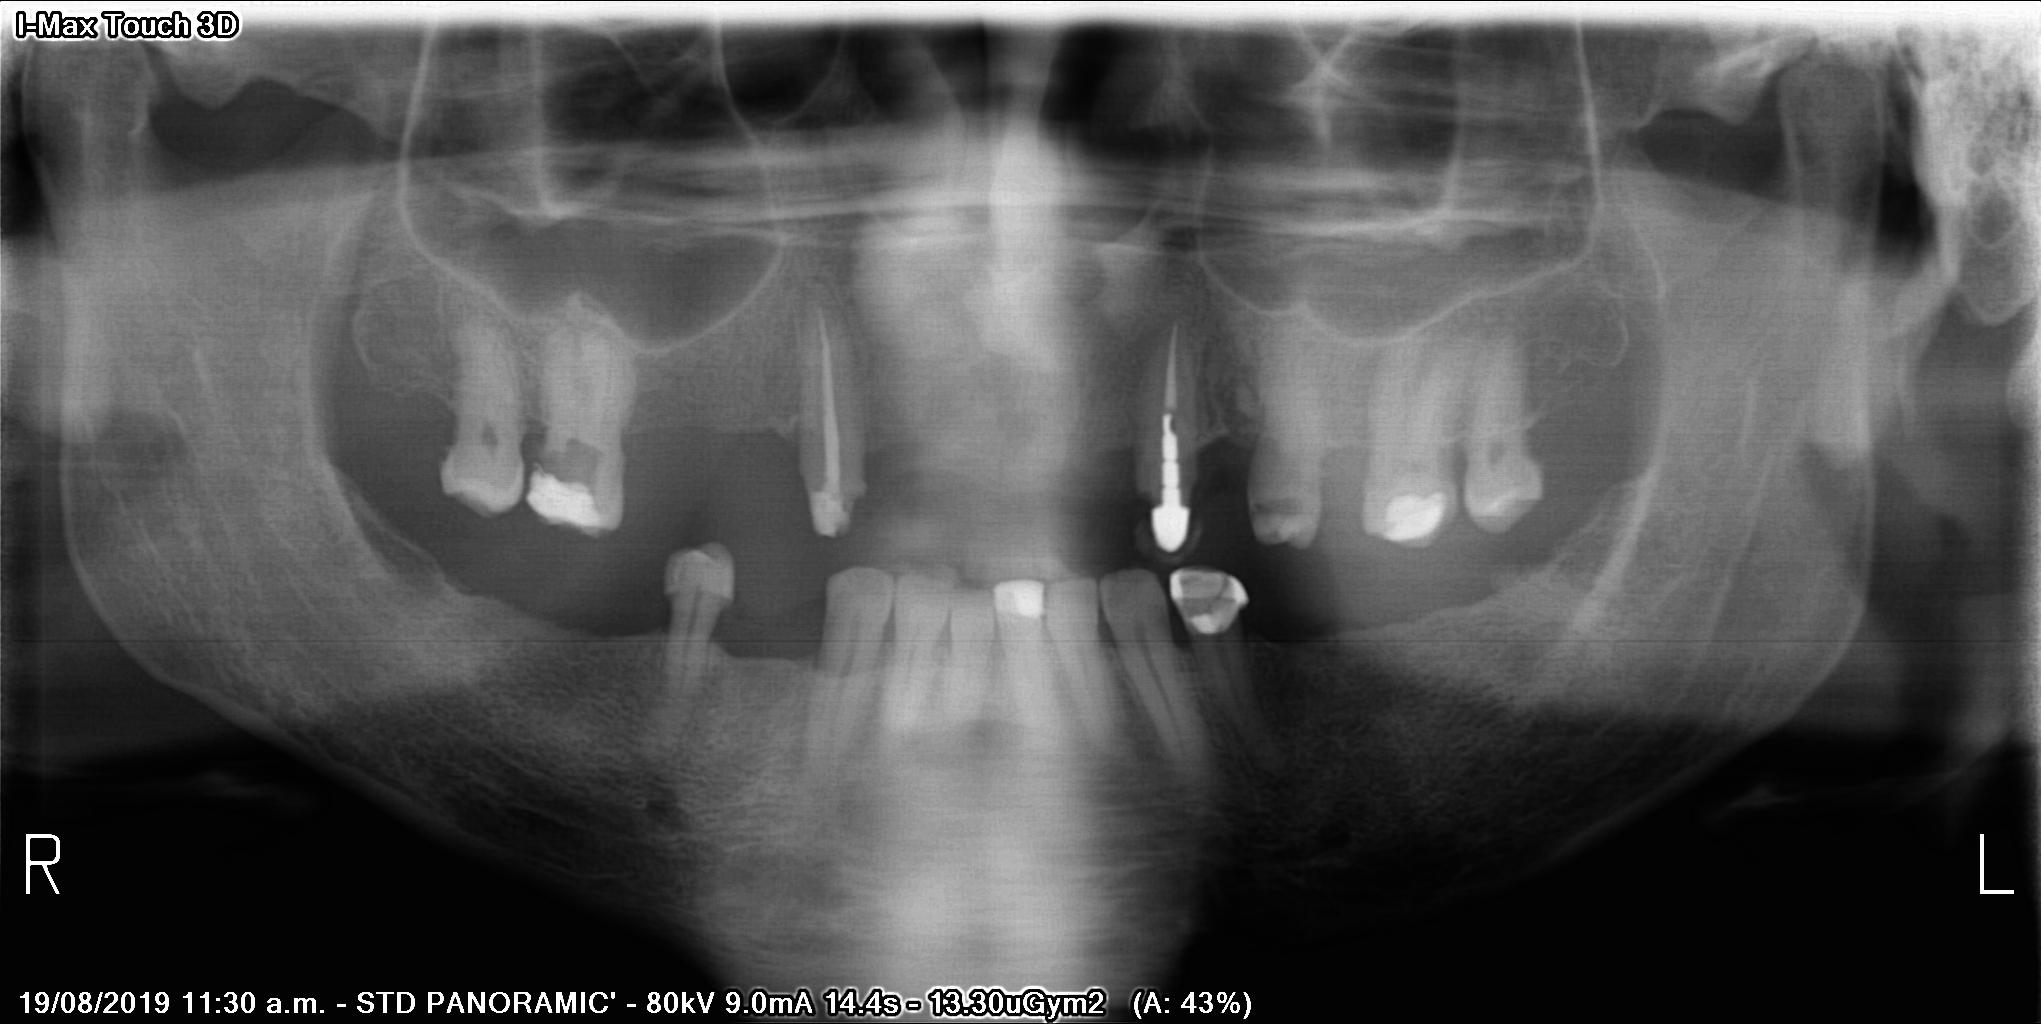Çürük: (1147, 393, 1197, 556), (800, 411, 861, 549), (522, 475, 616, 542), (1378, 479, 1449, 545), (987, 571, 1059, 624)
Çürük Bölgesi: (537, 435, 611, 483), (1244, 487, 1321, 521)
